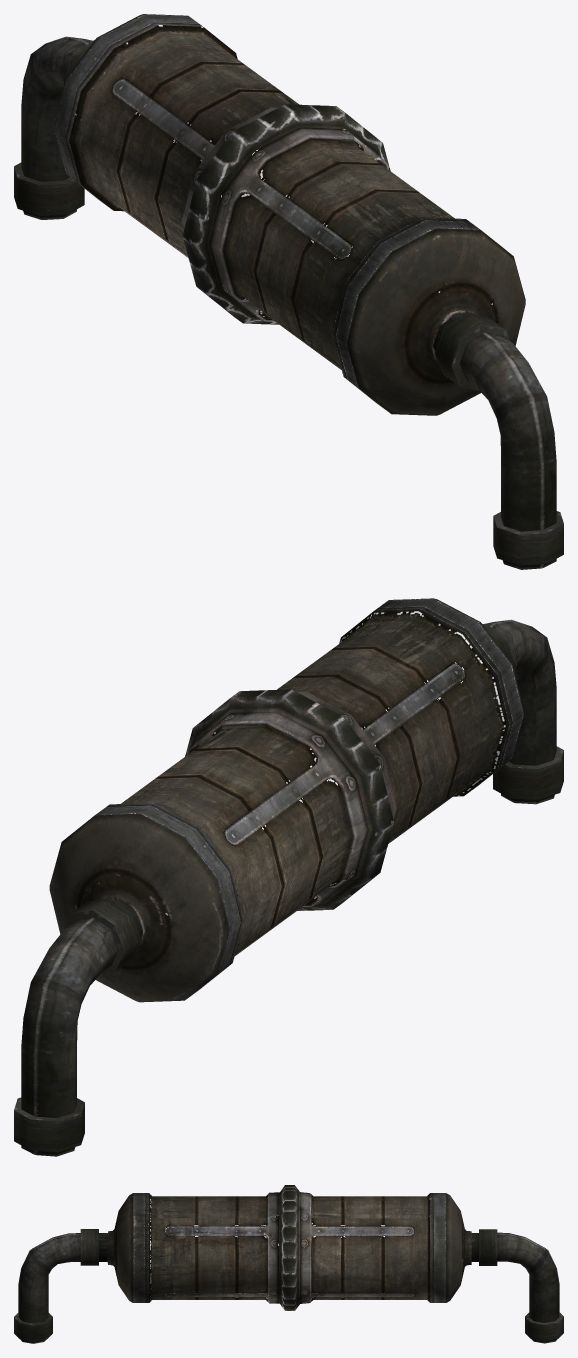
The model's file is tesla_dressing_metaldetails_04.dae.
3 views of the same model, one above another, from view 1: azimuth 30°, elevation 25°; view 2: azimuth 150°, elevation 25°; view 3: azimuth 270°, elevation 25° (orthographic). The views are drawn at different scales.
Visible parts, largest first — view 1: polySurface57; view 2: polySurface57; view 3: polySurface57.
Part boxes in pixels (x1,y1,x2,y2): polySurface57: (14, 14, 563, 569); polySurface57: (14, 598, 563, 1156); polySurface57: (14, 1185, 563, 1343).
Size of the model in its own units: 176 by 226 by 766.
